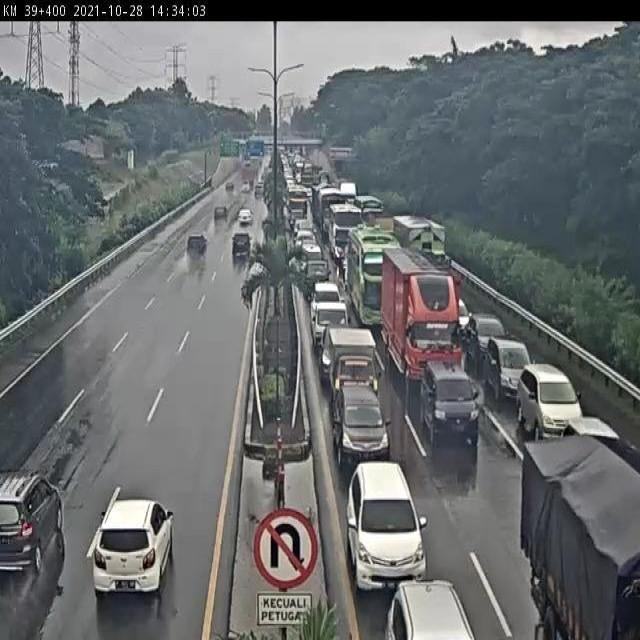bus-l-: (348, 228, 401, 329), (327, 202, 367, 258)
car: (343, 457, 423, 587), (91, 498, 175, 598), (0, 471, 64, 573), (416, 356, 478, 447), (520, 364, 584, 439), (322, 328, 384, 405), (327, 382, 389, 458), (488, 339, 533, 401), (309, 296, 350, 352), (466, 313, 508, 360), (298, 258, 330, 298), (230, 232, 252, 264), (296, 238, 320, 266), (312, 278, 340, 302), (186, 231, 208, 256), (294, 222, 312, 242)
truck-l-: (380, 247, 459, 393), (392, 212, 456, 284)
